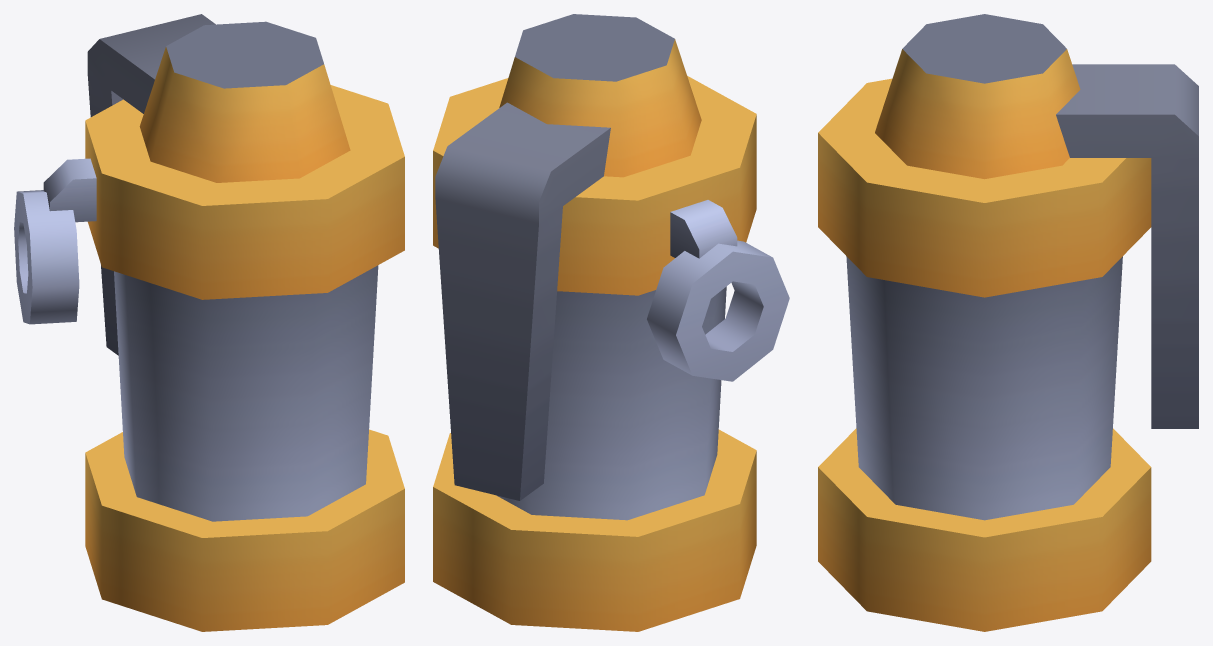
Rendered from grenade-a.glb.
3 renders of one model, left to right at view 1: azimuth 30°, elevation 25°; view 2: azimuth 150°, elevation 25°; view 3: azimuth 270°, elevation 25°, orthographic.
Visible parts, largest first — view 1: grenade-a; view 2: grenade-a; view 3: grenade-a.
Part boxes in pixels (<box>): grenade-a: <box>14,14,404,631</box>; grenade-a: <box>433,14,789,631</box>; grenade-a: <box>818,14,1198,631</box>.
Size of the model in its own units: 0.1689 by 0.2377 by 0.1599.
1 material, 1 textured.
